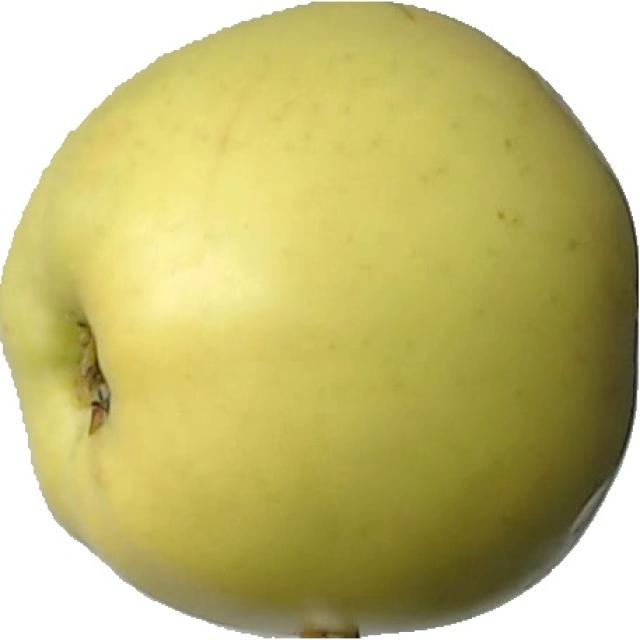Golden Elma: (8, 9, 639, 640)
